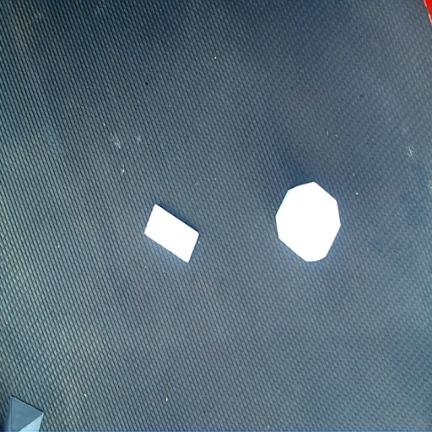Paralelepipedo: (143, 204, 199, 262)
Piramide: (1, 397, 44, 431)
Prisma_hexagonal: (275, 182, 341, 261)
